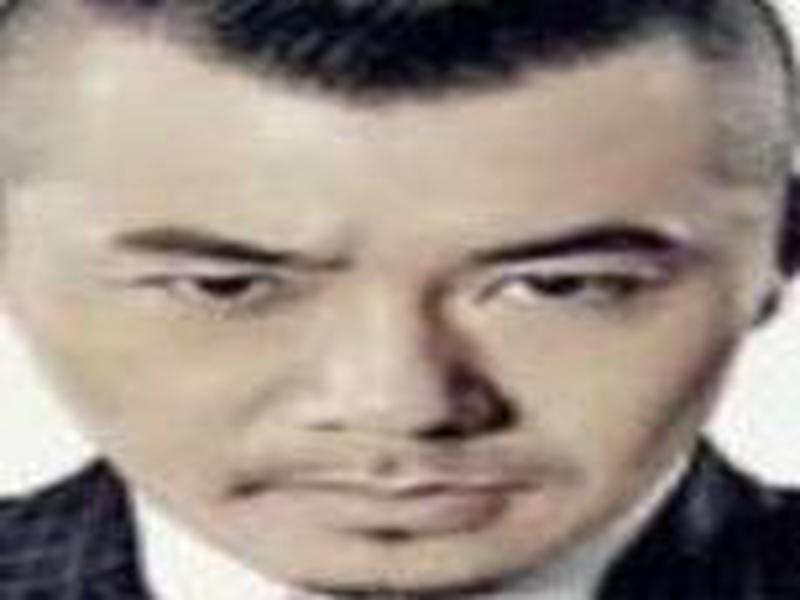without_mask: (4, 36, 778, 600)
